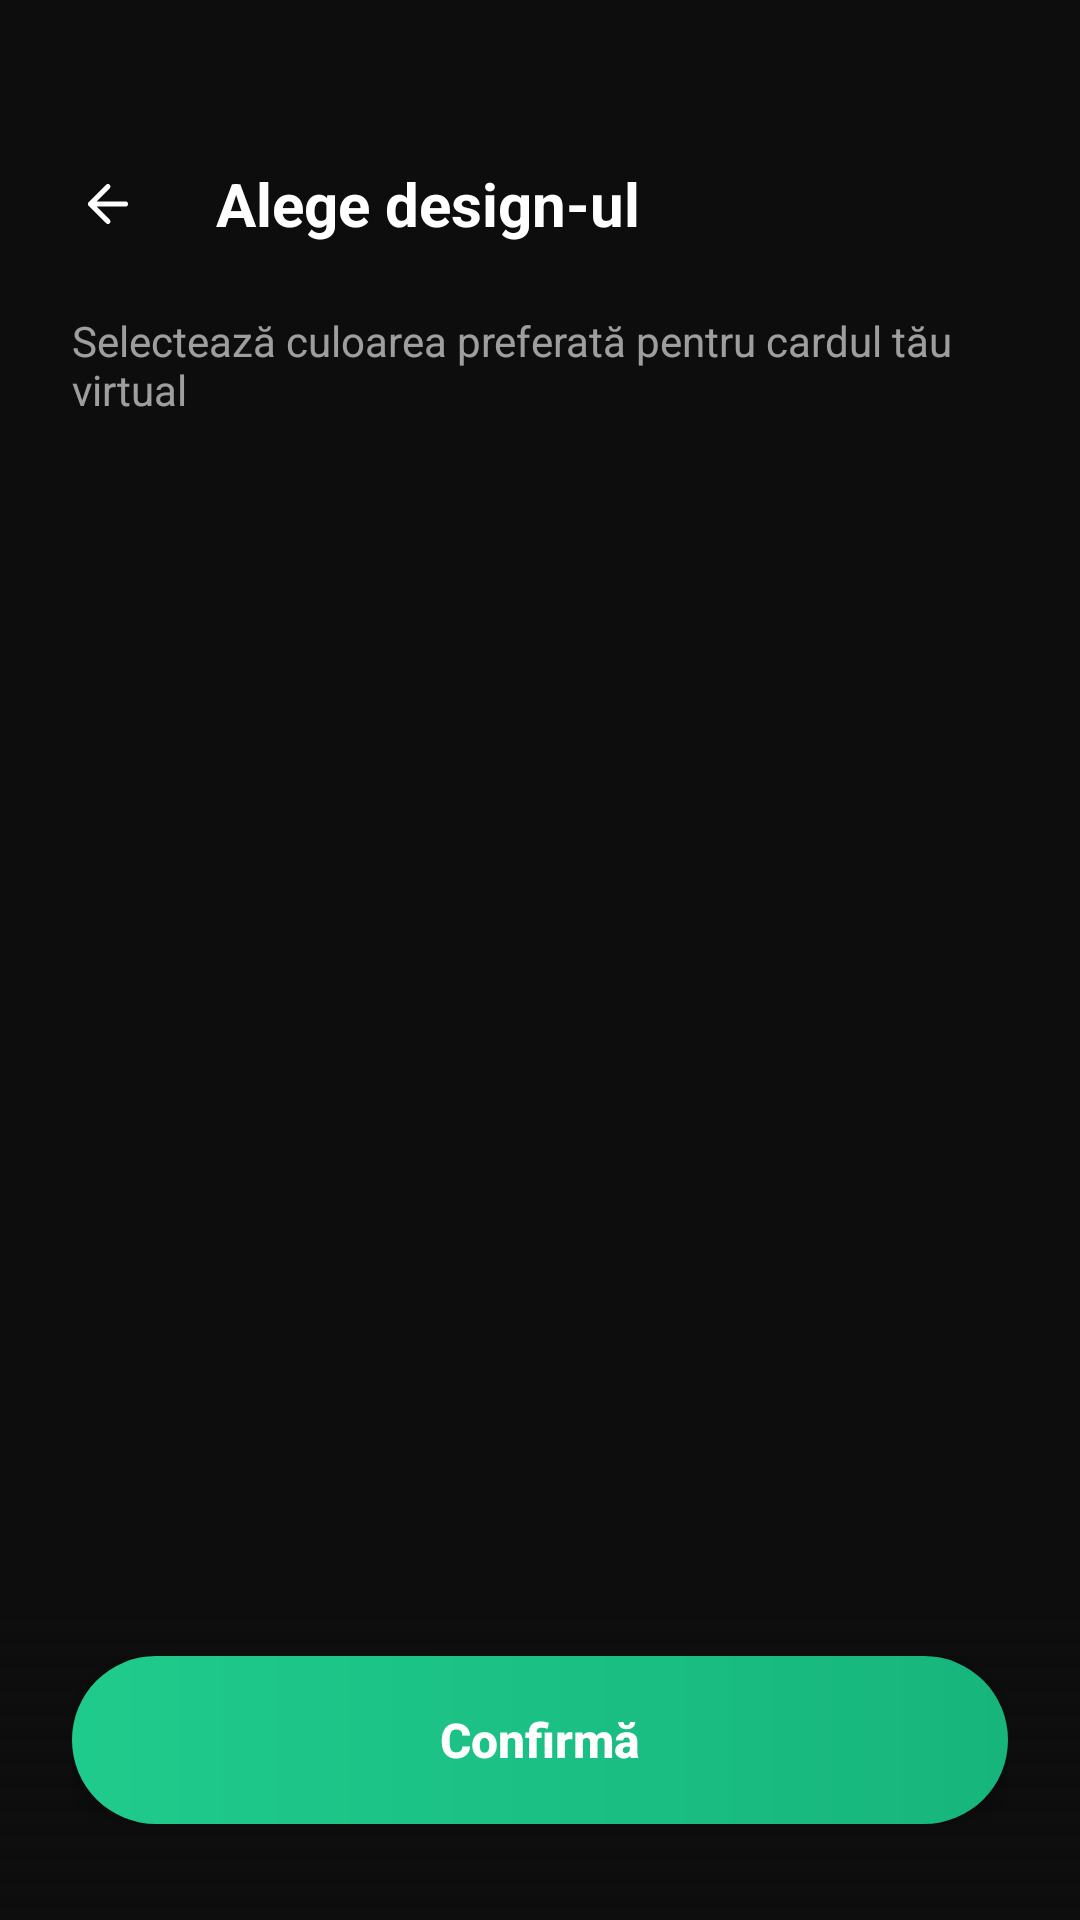

Screen size 1080*1920. Icon name, then its center in pixels as (x=x, y=y):
arrow back: (x=108, y=204)
